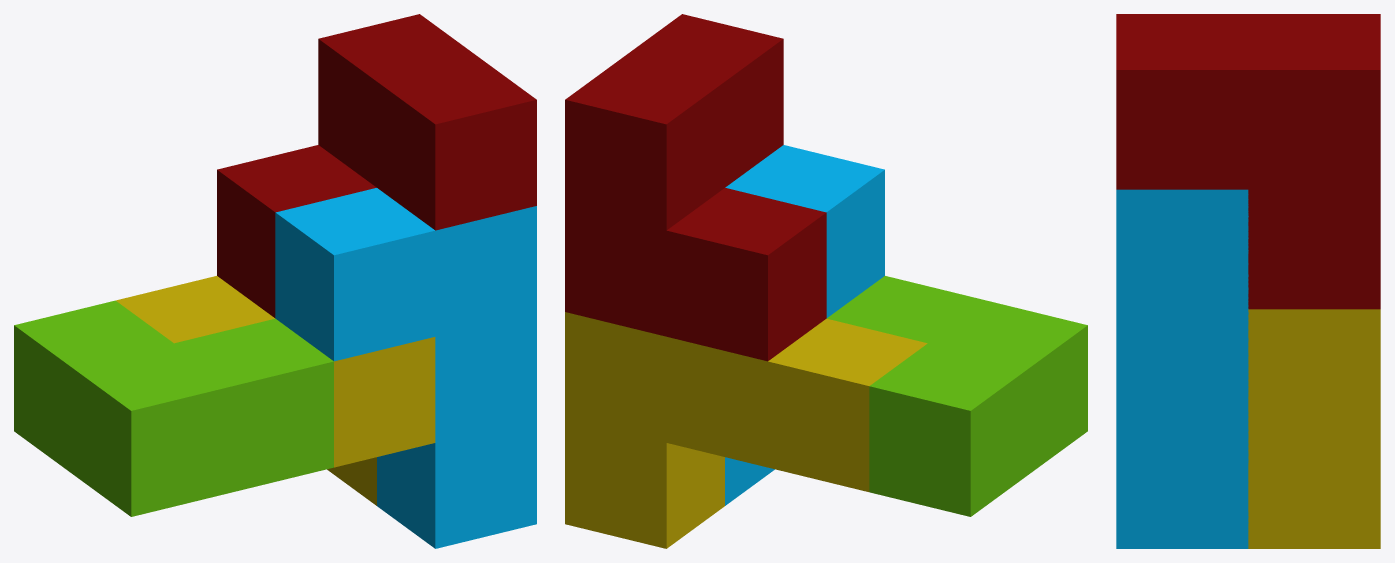
The picture shows the model from 3 angles, left to right: view 1: azimuth 30°, elevation 25°; view 2: azimuth 150°, elevation 25°; view 3: azimuth 270°, elevation 25°; orthographic projection. The views are drawn at different scales.
Parts seen in each view (by area): view 1: mergedBlocks(Clone); view 2: mergedBlocks(Clone); view 3: mergedBlocks(Clone).
Part boxes in pixels (left/top/right/bottom): mergedBlocks(Clone): left=14, top=14, right=536, bottom=548; mergedBlocks(Clone): left=565, top=14, right=1087, bottom=548; mergedBlocks(Clone): left=1116, top=14, right=1380, bottom=548.
Bounding box in the file's own units: 4 × 4 × 2.
4 materials, 4 textured.
